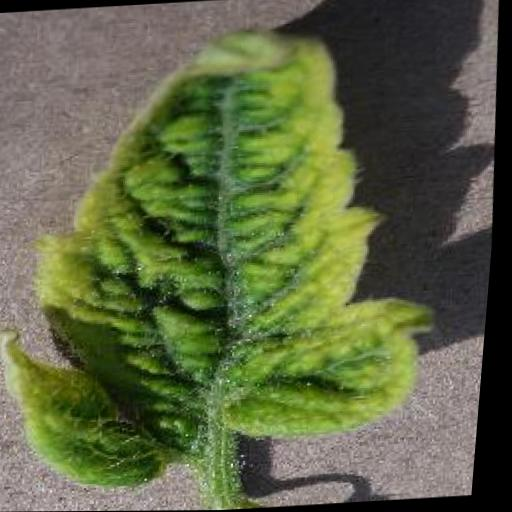Yellow Leaf Curl Virus: (0, 22, 470, 498)
